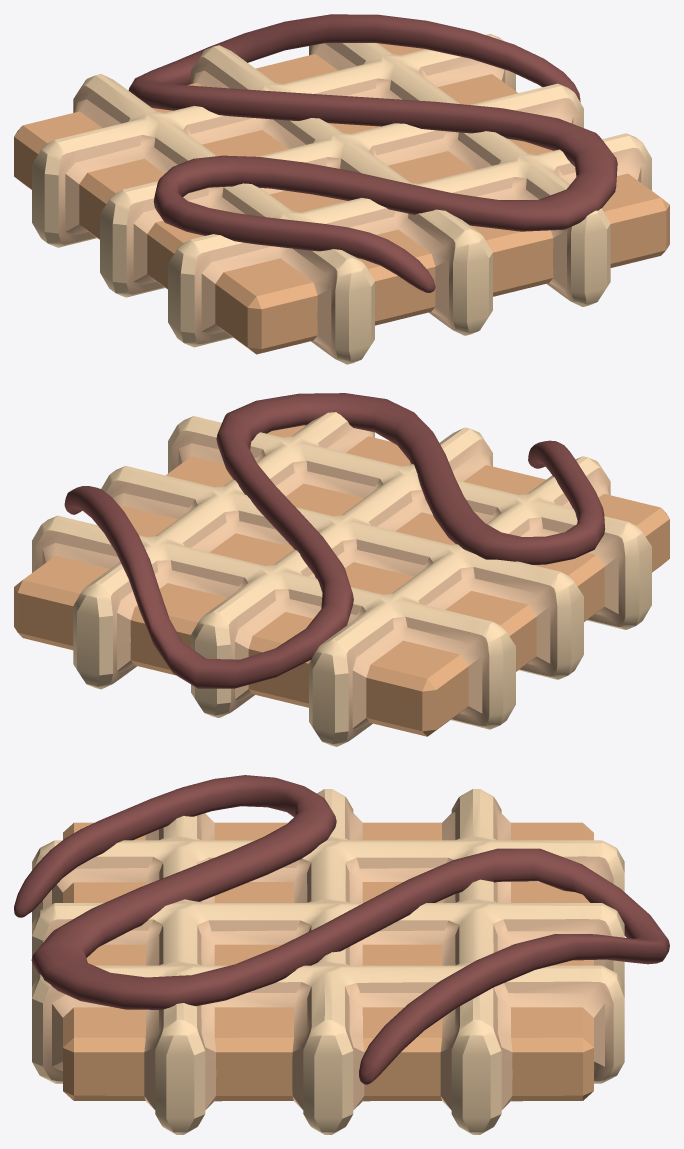
Rendered from SM_waffle_top.fbx.
3 views of the same model, one above another, from view 1: azimuth 30°, elevation 25°; view 2: azimuth 150°, elevation 25°; view 3: azimuth 270°, elevation 25° (orthographic). The views are drawn at different scales.
Parts seen in each view (by area): view 1: SM_waffle2, SM_waffle_top; view 2: SM_waffle2, SM_waffle_top; view 3: SM_waffle2, SM_waffle_top.
Boxes of the visible parts, <box> form: SM_waffle2: <box>14,34,669,364</box>; SM_waffle_top: <box>128,14,617,292</box>; SM_waffle2: <box>14,412,669,746</box>; SM_waffle_top: <box>64,393,605,688</box>; SM_waffle2: <box>32,789,624,1134</box>; SM_waffle_top: <box>14,775,669,1084</box>.
Size of the model in its own units: 644 by 163 by 683.
2 materials, 2 textured.
